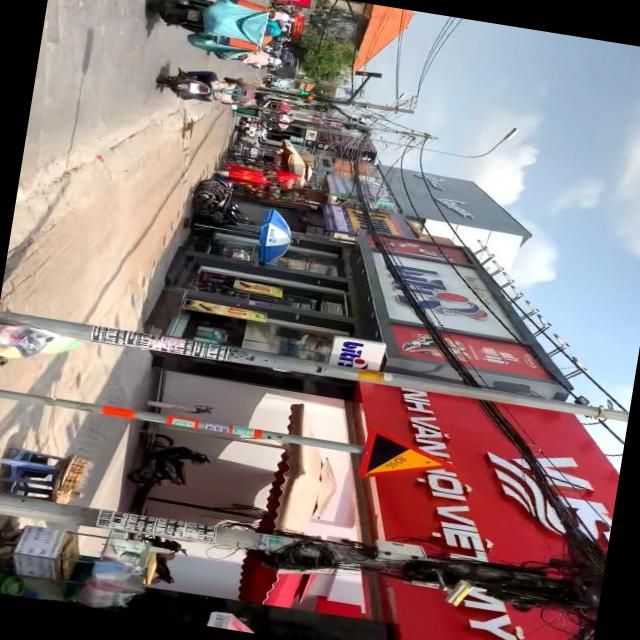W-220: (360, 426, 456, 488)
